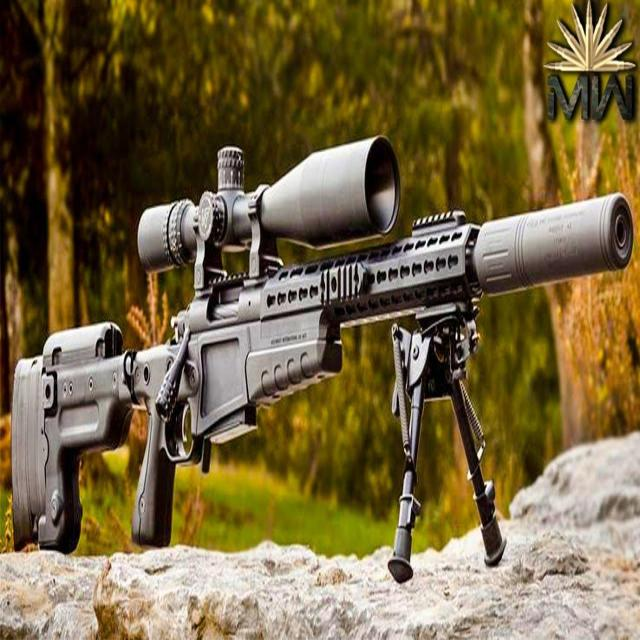weapon: (6, 119, 636, 582)
